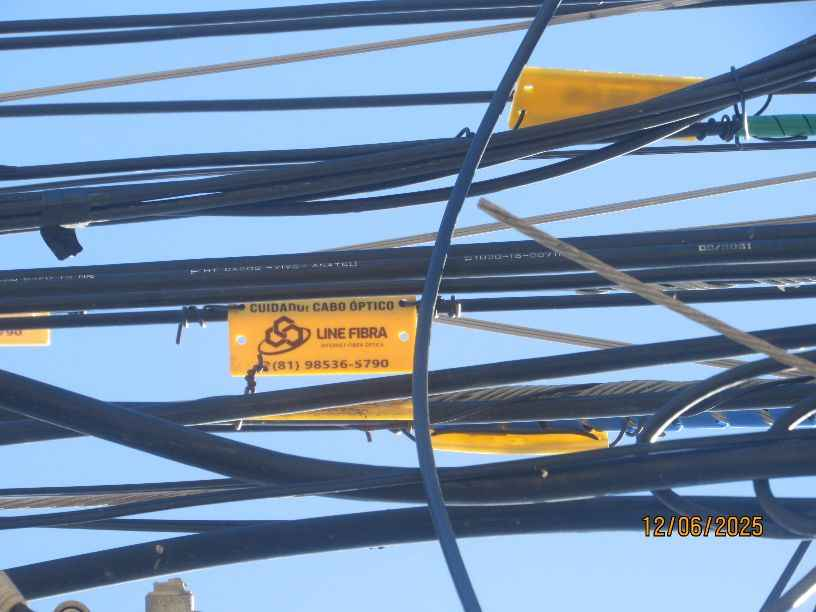fibra_optica: (217, 290, 461, 375), (507, 56, 761, 137)
